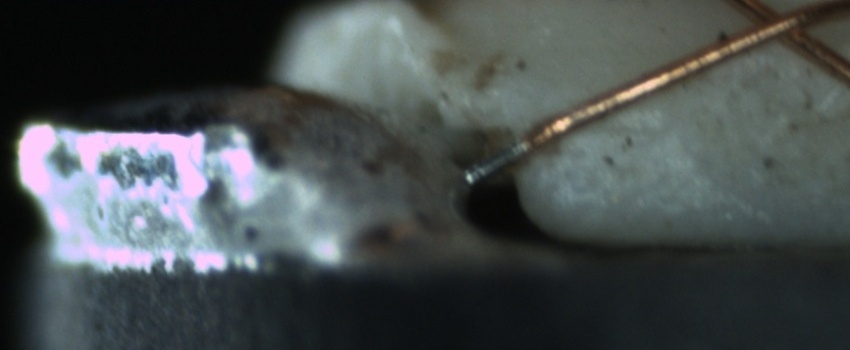CL: (729, 2, 824, 54)
DL: (585, 100, 667, 155)
TS: (461, 136, 528, 188)
